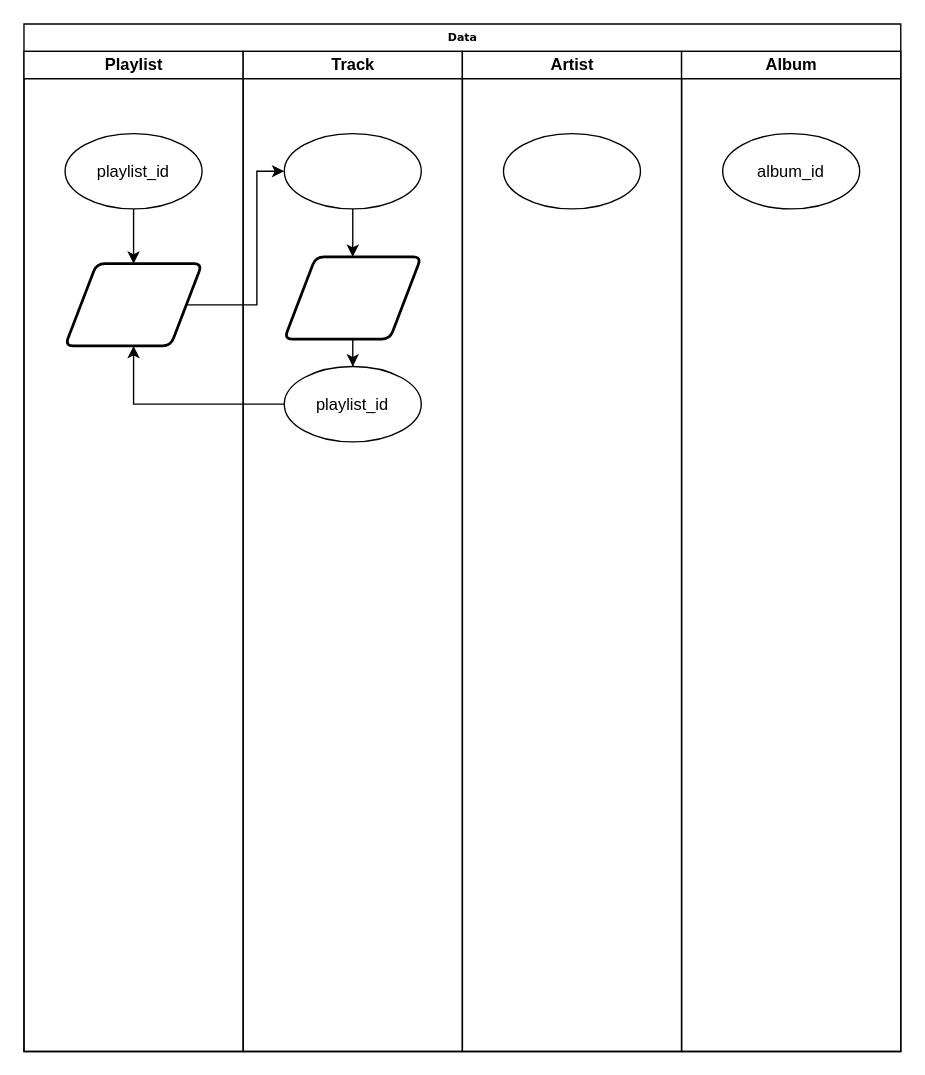
The diagram is 925 pixels wide and 1075 high, and some of its shapes have lost their labels. The box of each missing label's shape, as (x1, y1, x2, y2) in pixels:
artist_id: (502, 132, 640, 209)
in_playlist: (282, 255, 422, 340)
track_id: (283, 132, 421, 209)
tracks: (63, 262, 203, 347)
